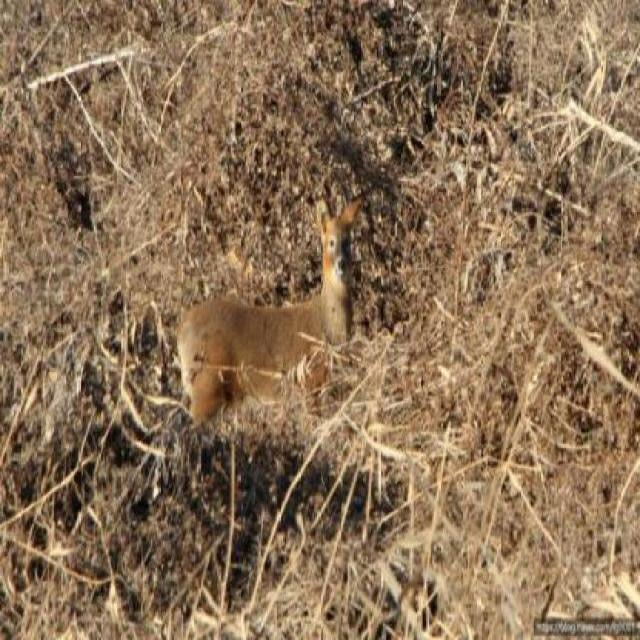deer: (160, 180, 369, 447)
